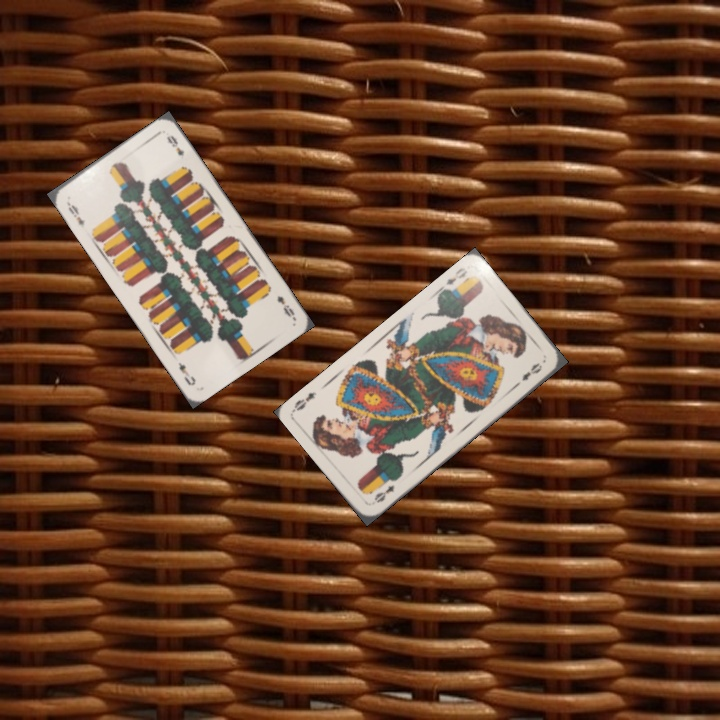E9: (62, 198, 88, 230), (273, 292, 297, 321)
EO: (436, 263, 471, 295), (370, 480, 397, 506)
